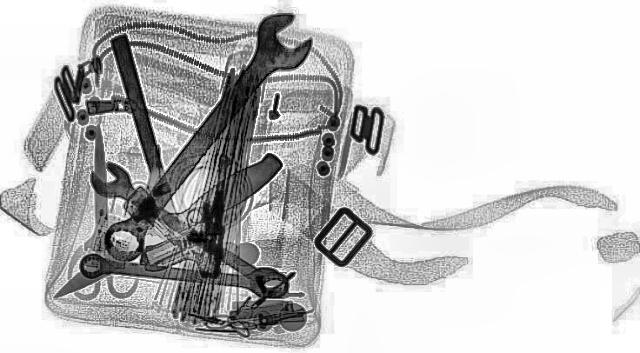Gun: (143, 189, 227, 274)
Knife: (36, 150, 300, 300), (108, 33, 184, 245), (80, 124, 114, 250)
Wrench: (87, 9, 330, 263), (72, 160, 308, 302), (72, 250, 286, 298)
